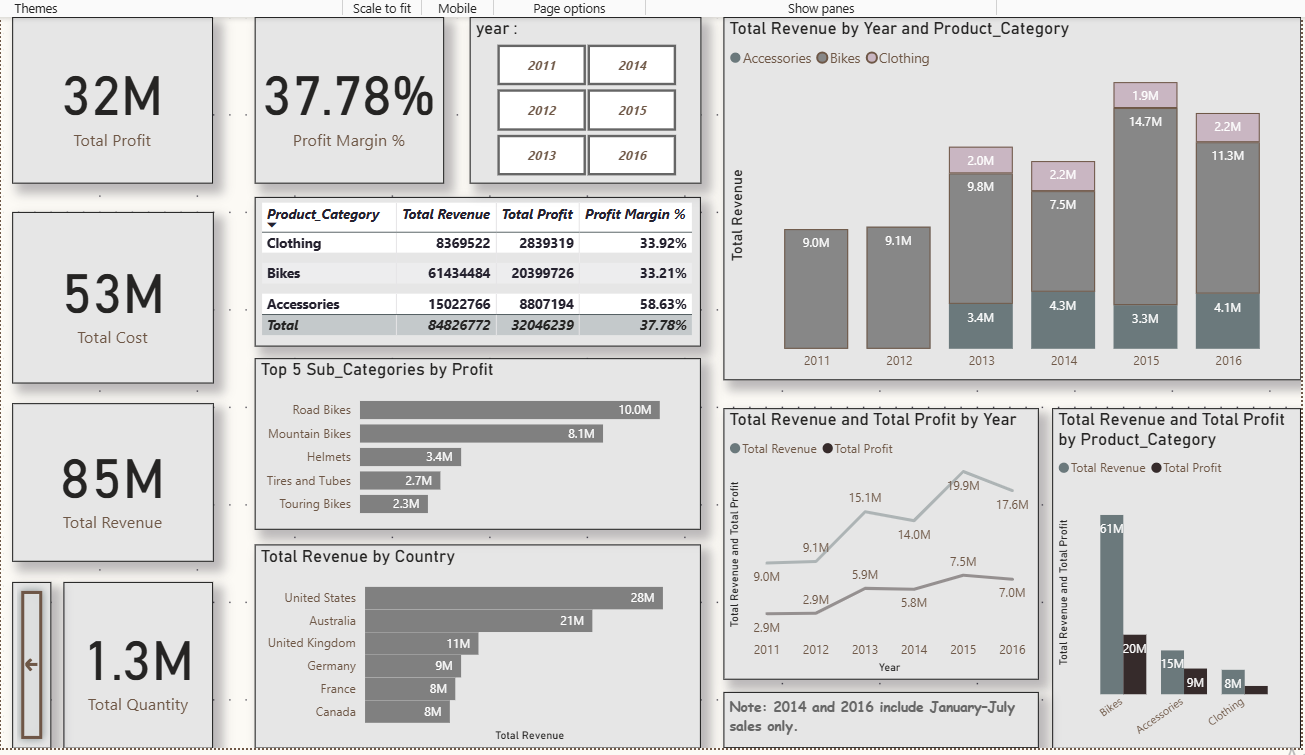

What the dashboard file says about the page in this screenshot:
{"tool":"powerbi","page":{"name":"Dashboard","canvas":[1280,720],"ordinal":1},"visuals":[{"type":"card","fields":{"Values":["Sales_clean.Total Revenue"]},"box":[11.1,380.3,198.2,156.3],"z":0},{"type":"card","fields":{"Values":["Sales_clean.Total Cost"]},"box":[11.1,192,198.2,168.6],"z":1000},{"type":"card","fields":{"Values":["Sales_clean.Total Profit"]},"box":[11.6,0,197.8,164.4],"z":2000},{"type":"card","fields":{"Values":["Sales_clean.Profit Margin %"]},"box":[250.2,0,186.2,164.4],"z":3000},{"type":"card","fields":{"Values":["Sales_clean.Total Quantity"]},"box":[61.2,556.2,147.5,163.8],"z":4000},{"type":"lineChart","fields":{"Y":["Sales_clean.Total Revenue","Sales_clean.Total Profit"],"Category":["Sales_clean.Year"]},"box":[711.4,385.2,310.2,267.1],"z":5000},{"type":"clusteredBarChart","fields":{"Y":["Sales_clean.Total Revenue"],"Category":["Sales_clean.Country"]},"box":[250.2,519.3,439.3,200.7],"z":5001},{"type":"clusteredColumnChart","fields":{"Category":["Sales_clean.Product_Category"],"Y":["Sales_clean.Total Revenue","Sales_clean.Total Profit"]},"box":[1035,385,245,335],"z":5002},{"type":"tableEx","fields":{"Values":["Sales_clean.Product_Category","Sales_clean.Total Revenue","Sales_clean.Total Profit","Sales_clean.Profit Margin %"]},"box":[250.2,177.5,439.3,146.9],"z":5003},{"type":"barChart","title":"Top 5 Sub_Categories by Profit","fields":{"Category":["Sales_clean.Sub_Category"],"Y":["Sales_clean.Total Profit"]},"box":[250.2,336,439.3,168.7],"z":5004},{"type":"actionButton","box":[11.2,556.2,38.8,163.8],"z":5008},{"type":"slicer","title":"year :","fields":{"Values":["Sales_clean.Year"]},"box":[461.1,0,228.4,164.4],"z":5009},{"type":"textbox","box":[711.4,664.6,310.2,55.4],"z":5011},{"type":"columnChart","fields":{"Category":["Sales_clean.Year"],"Y":["Sales_clean.Total Revenue"],"Series":["Sales_clean.Product_Category"]},"box":[711.3,0,568.7,357.8],"z":5012}]}

Visuals, with their boxes in screenshot pixels (x1, y1, x2, y2):
card - Sales_clean.Total Revenue: {"left": 15, "top": 399, "right": 214, "bottom": 557}
card - Sales_clean.Total Cost: {"left": 15, "top": 210, "right": 214, "bottom": 380}
card - Sales_clean.Total Profit: {"left": 15, "top": 17, "right": 214, "bottom": 182}
card - Sales_clean.Profit Margin %: {"left": 255, "top": 17, "right": 442, "bottom": 182}
card - Sales_clean.Total Quantity: {"left": 65, "top": 576, "right": 213, "bottom": 741}
lineChart - Sales_clean.Total Revenue x Sales_clean.Total Profit: {"left": 719, "top": 404, "right": 1031, "bottom": 673}
clusteredBarChart - Sales_clean.Total Revenue x Sales_clean.Country: {"left": 255, "top": 539, "right": 697, "bottom": 741}
clusteredColumnChart - Sales_clean.Product_Category x Sales_clean.Total Revenue: {"left": 1044, "top": 404, "right": 1290, "bottom": 741}
tableEx - Sales_clean.Product_Category x Sales_clean.Total Revenue: {"left": 255, "top": 195, "right": 697, "bottom": 343}
"Top 5 Sub_Categories by Profit" barChart: {"left": 255, "top": 355, "right": 697, "bottom": 524}
actionButton: {"left": 15, "top": 576, "right": 54, "bottom": 741}
"year :" slicer: {"left": 467, "top": 17, "right": 697, "bottom": 182}
textbox: {"left": 719, "top": 685, "right": 1031, "bottom": 741}
columnChart - Sales_clean.Year x Sales_clean.Total Revenue: {"left": 719, "top": 17, "right": 1290, "bottom": 377}
